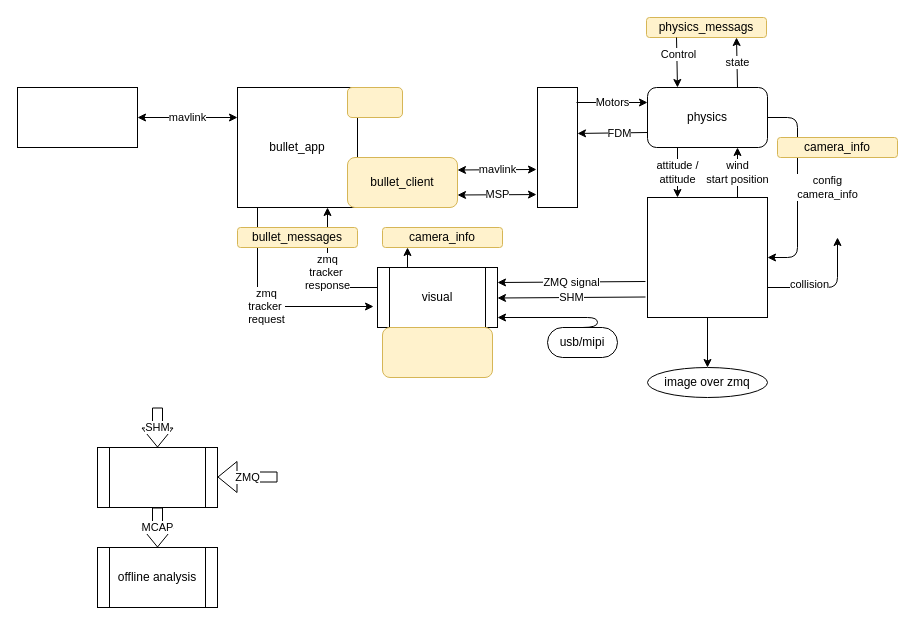
Some shapes in this 915 by 625 pixel diagram are drawn without their labels. Here are the shapes that lost their labels. From the top down, the centre of each, then its label:
the point at 77,117: bullet_gcs
the point at 374,102: LOS
the point at 557,147: SITL
the point at 707,257: RENDER
the point at 437,352: tracker/ detectors
the point at 157,477: logger mcal_bagger
